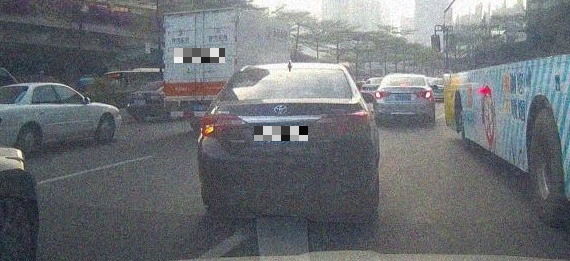L_light: (200, 113, 247, 138), (375, 91, 390, 98)
R_light: (316, 110, 371, 139), (416, 90, 433, 98)
T_light: (269, 92, 297, 99), (398, 83, 408, 86)
day-brake: (374, 73, 434, 125)
day-left: (198, 63, 374, 217)
plate_1: (174, 48, 225, 63)
plate_2: (254, 126, 308, 141)
